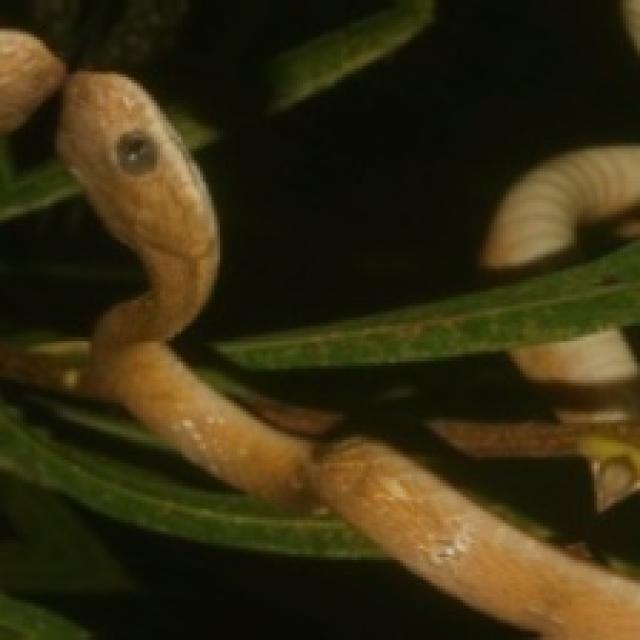philippine cat snake: (57, 71, 637, 637), (480, 145, 640, 269), (510, 328, 640, 422)
